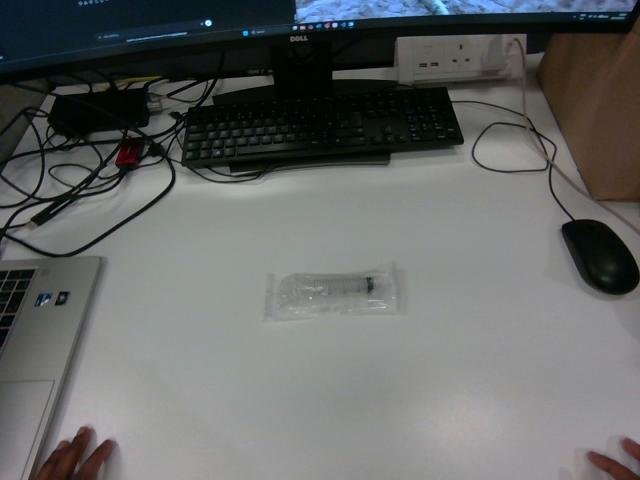syringe: (265, 263, 397, 320)
